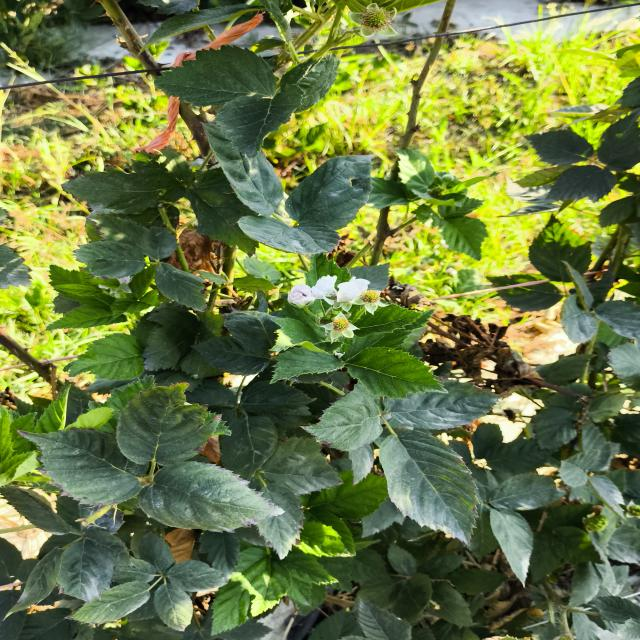flor: (336, 277, 369, 309), (311, 275, 337, 304), (288, 284, 315, 306)
